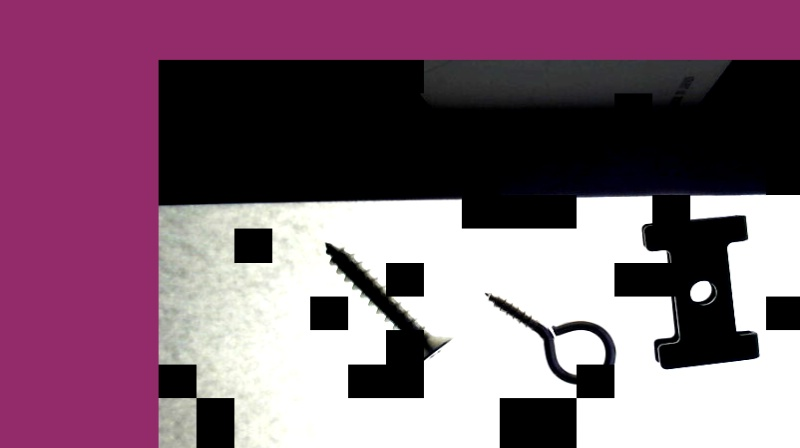O001: (481, 288, 615, 385)
O002: (638, 212, 763, 368)
S001: (322, 241, 452, 369)
